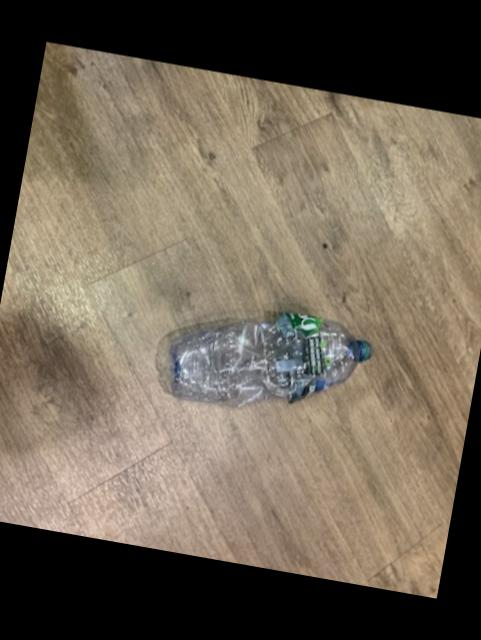plastic: (169, 315, 372, 408)
